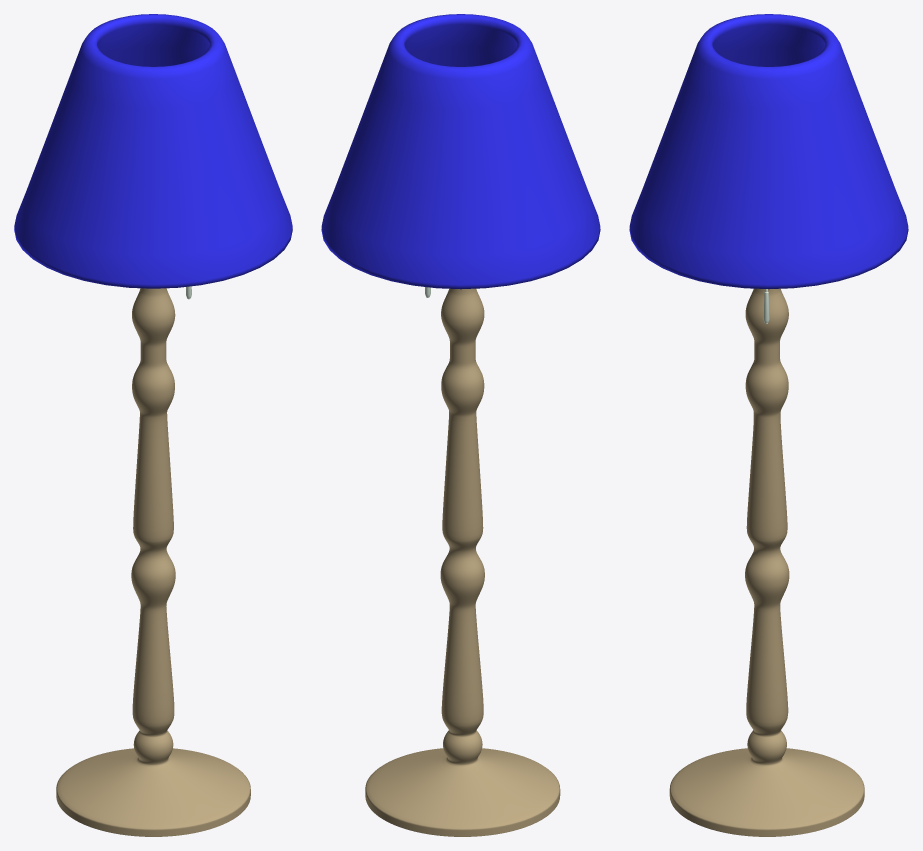
The model's file is Lamp.fbx.
3 renders of one model, left to right at view 1: azimuth 30°, elevation 25°; view 2: azimuth 150°, elevation 25°; view 3: azimuth 270°, elevation 25°, orthographic.
Visible parts, largest first — view 1: LampShade, LampBase; view 2: LampShade, LampBase; view 3: LampShade, LampBase.
Part boxes in pixels (<box>): LampShade: <box>14,14,292,288</box>; LampBase: <box>56,288,250,836</box>; LampShade: <box>321,14,600,289</box>; LampBase: <box>365,288,560,836</box>; LampShade: <box>629,14,908,289</box>; LampBase: <box>669,288,864,836</box>.
Size of the model in its own units: 58.83 by 176 by 58.82.
